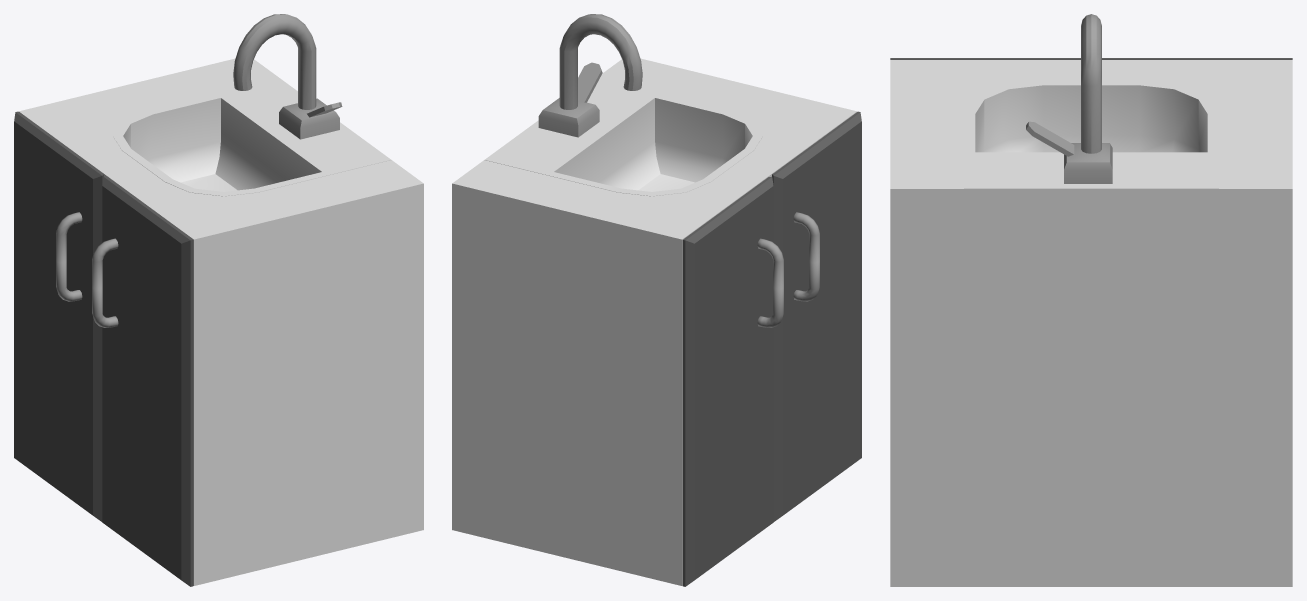
Rendered from Mutfak_Dolap_Alt_4.fbx.
3 renders of one model, left to right at view 1: azimuth 30°, elevation 25°; view 2: azimuth 150°, elevation 25°; view 3: azimuth 270°, elevation 25°, orthographic. The views are drawn at different scales.
Visible parts, largest first — view 1: Cube.004; view 2: Cube.004; view 3: Cube.004.
Part boxes in pixels (<box>): Cube.004: <box>14,14,423,586</box>; Cube.004: <box>452,14,861,586</box>; Cube.004: <box>890,14,1292,586</box>.
Bounding box in the file's own units: 87.99 × 150 × 102.
